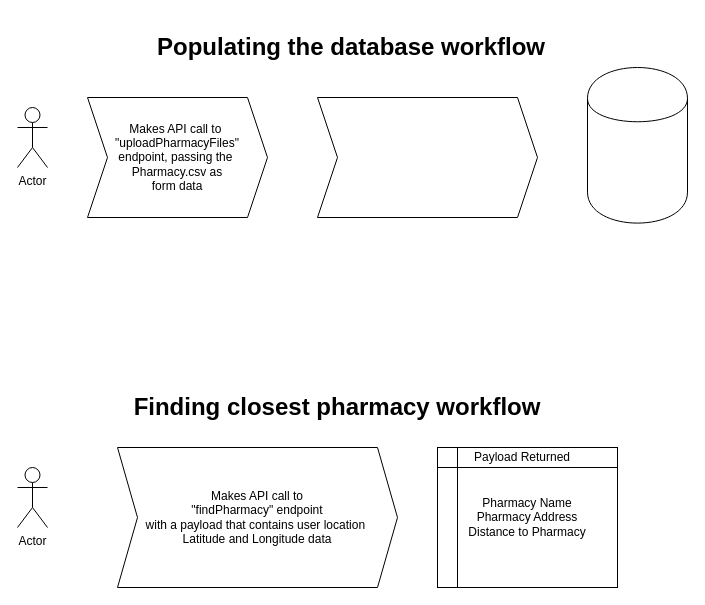
Image size: 705x605. Some labels were removed from this diagram. Here are the shapes that lost their labels. From the top down, the centre of each, then its label:
At pixel 427 157: "Rest controller parses the csv file".
At pixel 637 144: "Java Presistance API presists pharmacy data in the MySQL DB".
